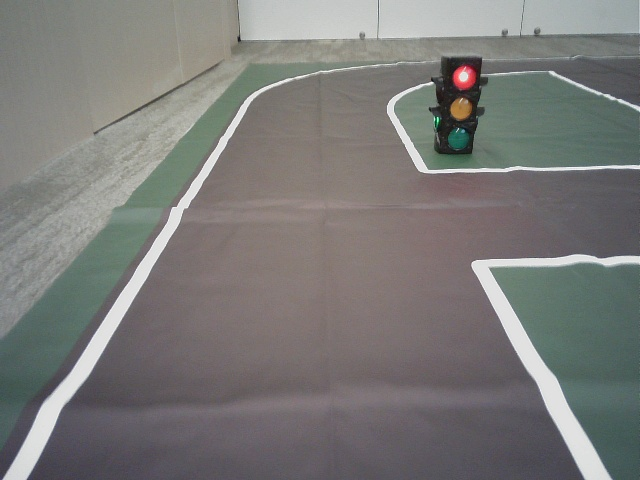red: (445, 63, 477, 147)
